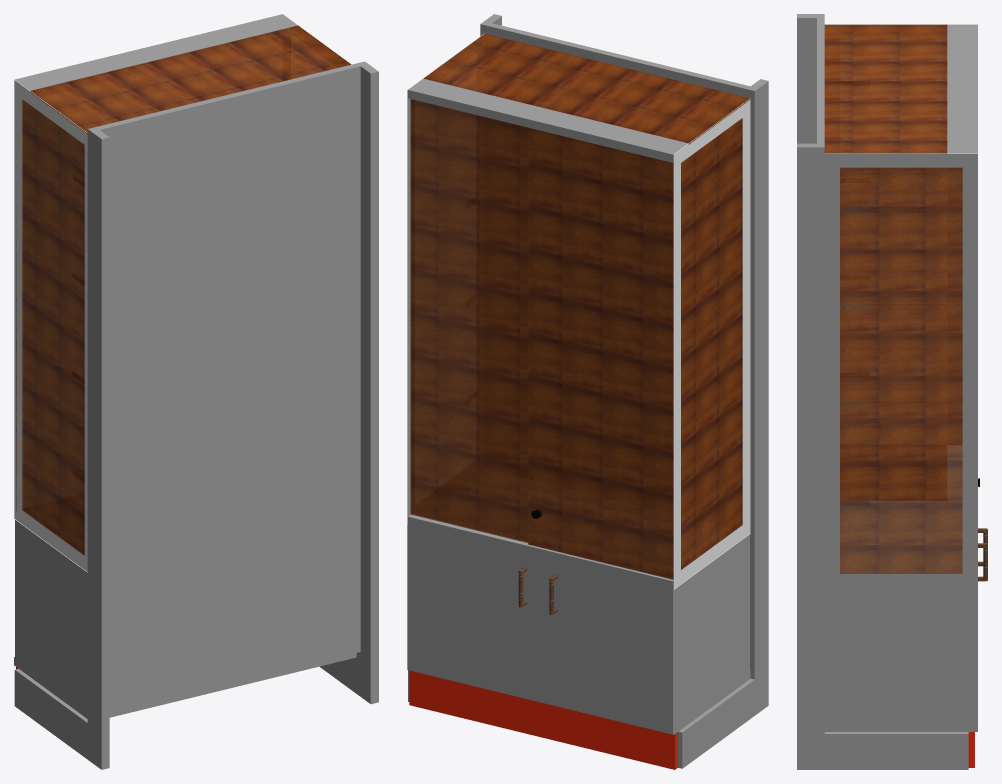
3 views of the same model, side by side, from view 1: azimuth 30°, elevation 25°; view 2: azimuth 150°, elevation 25°; view 3: azimuth 270°, elevation 25° (orthographic).
Parts seen in each view (by area): view 1: mesh42_mesh42-geometry, mesh44_mesh44-geometry, mesh31_mesh31-geometry, mesh40_mesh40-geometry; view 2: mesh44_mesh44-geometry, mesh37_mesh37-geometry, mesh36_mesh36-geometry, mesh31_mesh31-geometry, mesh5_mesh5-geometry, mesh40_mesh40-geometry; view 3: mesh44_mesh44-geometry, mesh31_mesh31-geometry, mesh3_mesh3-geometry, mesh2_mesh2-geometry, mesh4_mesh4-geometry, mesh40_mesh40-geometry, mesh1_mesh1-geometry.
Part boxes in pixels (box(x1,y1,x2,y2)): mesh42_mesh42-geometry: box(109, 156, 360, 712); mesh44_mesh44-geometry: box(14, 14, 378, 769); mesh31_mesh31-geometry: box(15, 520, 356, 717); mesh40_mesh40-geometry: box(14, 657, 356, 759); mesh44_mesh44-geometry: box(407, 14, 768, 715); mesh37_mesh37-geometry: box(528, 127, 673, 579); mesh36_mesh36-geometry: box(410, 99, 528, 542); mesh31_mesh31-geometry: box(407, 525, 749, 734); mesh5_mesh5-geometry: box(409, 670, 677, 769); mesh40_mesh40-geometry: box(408, 670, 754, 768); mesh44_mesh44-geometry: box(797, 14, 977, 769); mesh31_mesh31-geometry: box(824, 458, 977, 731); mesh3_mesh3-geometry: box(840, 209, 946, 310); mesh2_mesh2-geometry: box(840, 307, 946, 407); mesh4_mesh4-geometry: box(840, 404, 946, 505); mesh40_mesh40-geometry: box(824, 723, 977, 769); mesh1_mesh1-geometry: box(840, 168, 946, 213).
Size of the model in its own units: 0.4051 by 0.8809 by 0.2448.
